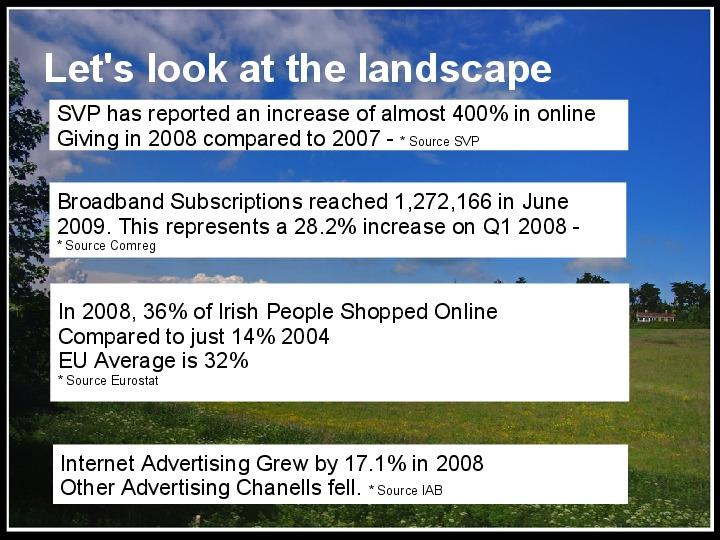paragraph: (45, 91, 656, 521)
title: (34, 44, 563, 96)
